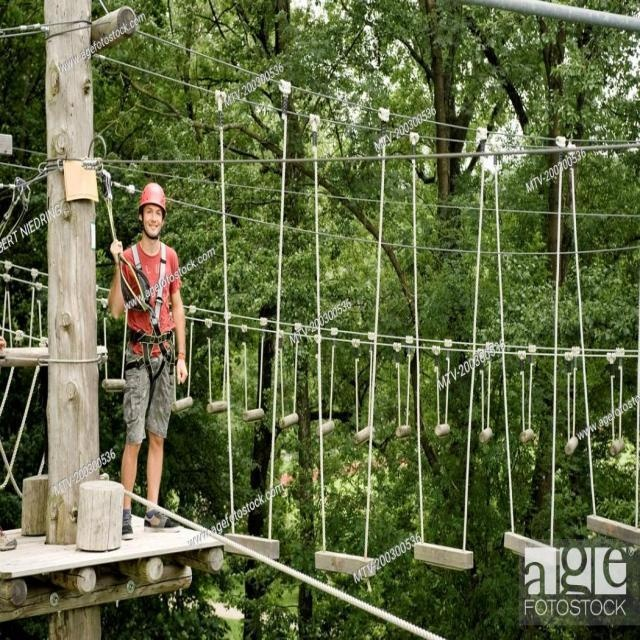Arnes_seguridad: (126, 240, 175, 380)
